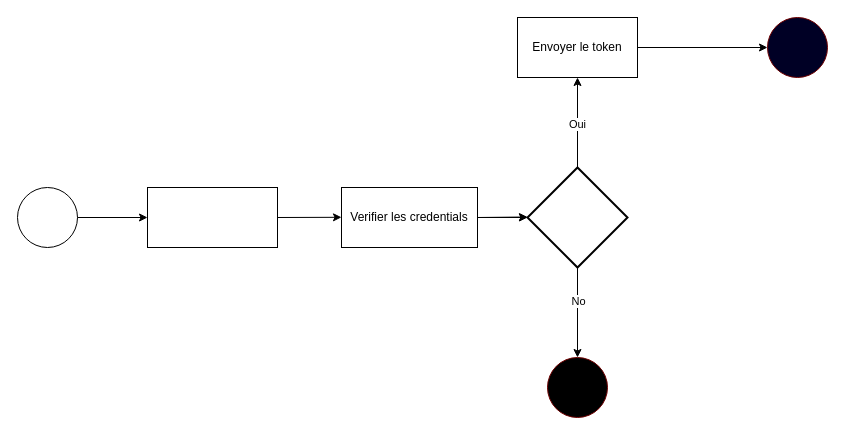
The diagram is 845 pixels wide and 435 high, and some of its shapes have lost their labels. Each missing label, with the centre of its shape:
"Enoyer les credentials (cuid,mot de passe)" belongs at pixel 212 217.
"Valide?" belongs at pixel 577 217.
